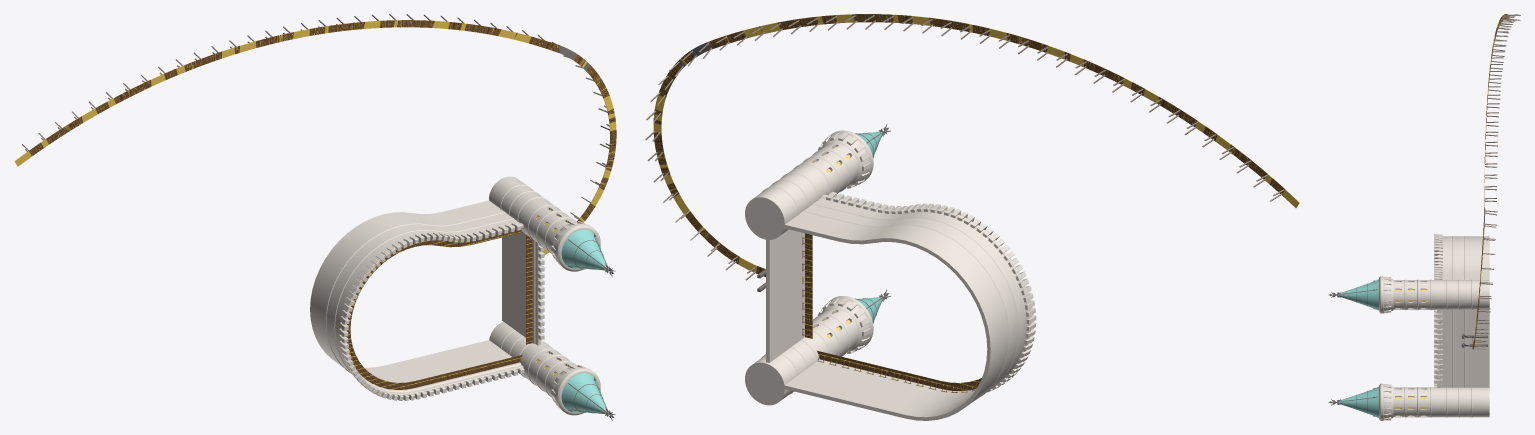
The model's file is Wallsx.fbx.
3 renders of one model, left to right at view 1: azimuth 30°, elevation 25°; view 2: azimuth 150°, elevation 25°; view 3: azimuth 270°, elevation 25°, orthographic. The views are drawn at different scales.
Visible parts, largest first — view 1: wallsx; view 2: wallsx; view 3: wallsx.
Boxes of the visible parts, x1,y1,x2,y2 form: wallsx: (14,14,616,420); wallsx: (645,14,1299,420); wallsx: (1328,14,1520,420).
Bounding box in the file's own units: 26894 × 16796 × 10336.
